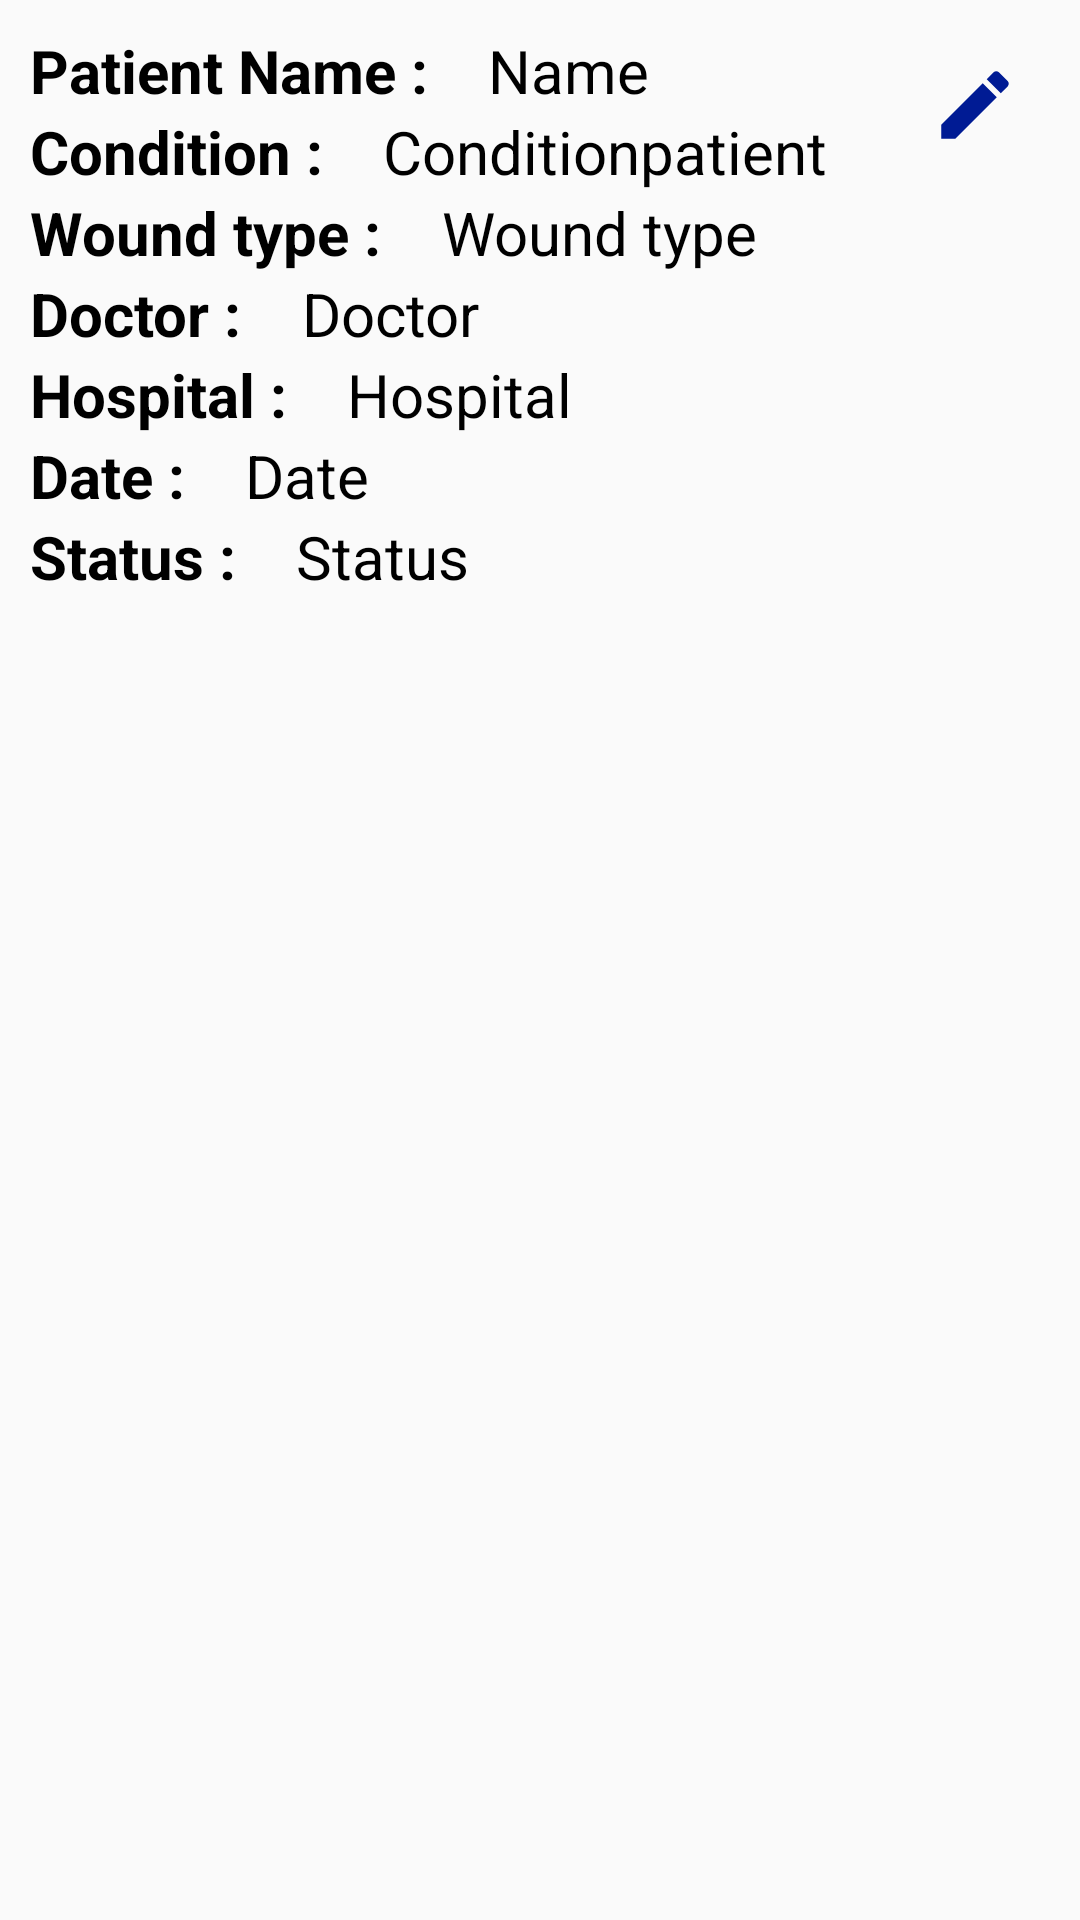

Screen size 1080*1920. Icon name, then its box in pixels as (x1, y1, x2, y2):
edit: (941, 71, 1009, 139)
